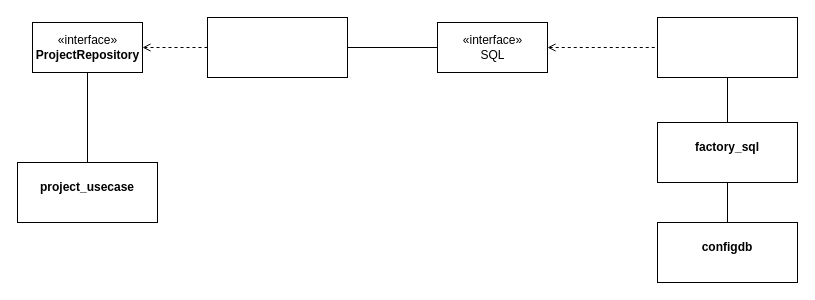
This 815x300 diagram has some shape labels left out. Here are the shapes that lost their labels. From the top down, the box of each, then its label:
(206, 16, 348, 78): project_sql
(656, 16, 798, 78): postgres_sql
